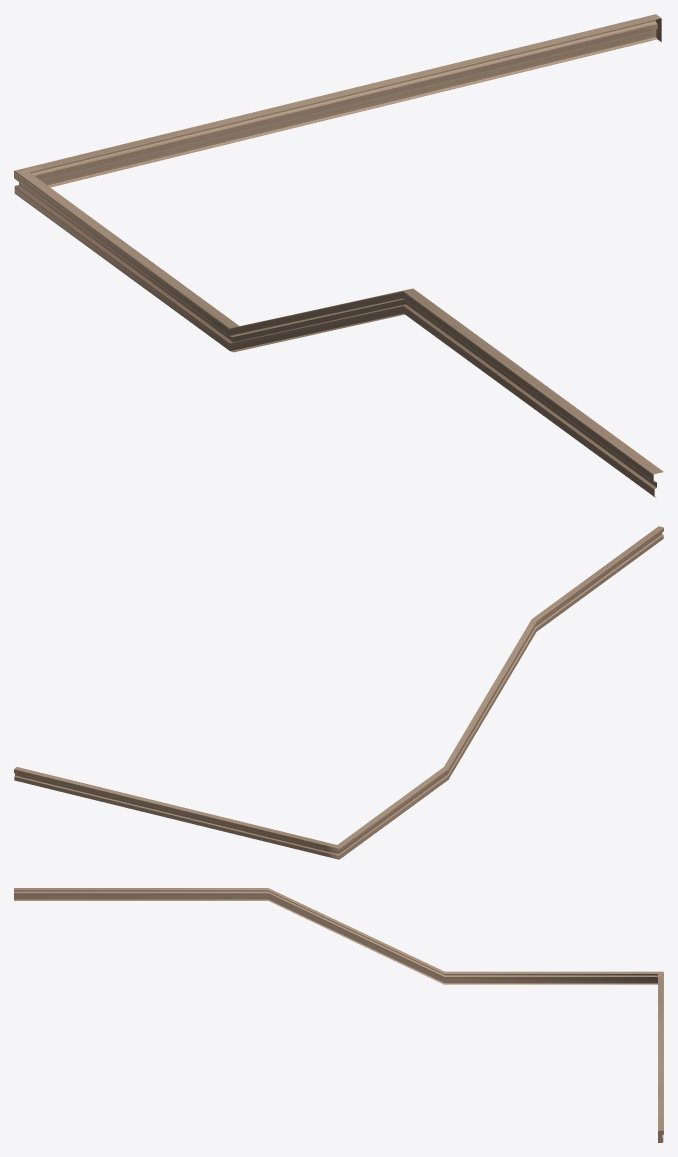
Rendered from wallPanel_Merged.fbx.
3 views of the same model, one above another, from view 1: azimuth 30°, elevation 25°; view 2: azimuth 150°, elevation 25°; view 3: azimuth 270°, elevation 25° (orthographic). The views are drawn at different scales.
Parts seen in each view (by area): view 1: wallPanel (3)-Merged (5); view 2: wallPanel (3)-Merged (5); view 3: wallPanel (3)-Merged (5).
Part boxes in pixels (x1=…): wallPanel (3)-Merged (5): x1=14, y1=14, x2=663, y2=497; wallPanel (3)-Merged (5): x1=14, y1=526, x2=663, y2=859; wallPanel (3)-Merged (5): x1=14, y1=888, x2=663, y2=1142.
Bounding box in the file's own units: 50.28 × 14.13 × 86.81.
